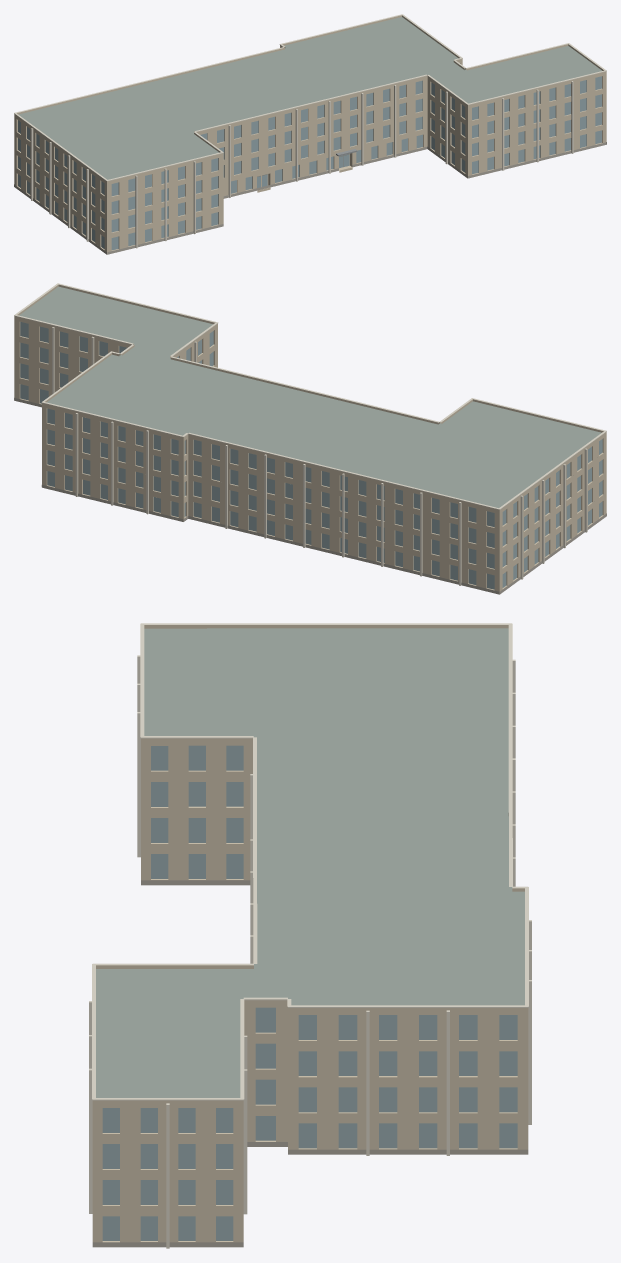
3 views of the same model, one above another, from view 1: azimuth 30°, elevation 25°; view 2: azimuth 150°, elevation 25°; view 3: azimuth 270°, elevation 25° (orthographic). The views are drawn at different scales.
Visible parts, largest first — view 1: b115951759__roof, b115951759__wall, b115951759__glass, b115951759__trim, b115951759__parapet, b115951759__base; view 2: b115951759__roof, b115951759__wall, b115951759__glass, b115951759__trim, b115951759__parapet, b115951759__base; view 3: b115951759__roof, b115951759__wall, b115951759__glass, b115951759__trim, b115951759__parapet, b115951759__base.
Part boxes in pixels (x1,y1,x2,y2): b115951759__roof: (18, 17, 601, 179); b115951759__wall: (14, 46, 606, 254); b115951759__glass: (18, 76, 601, 250); b115951759__trim: (14, 14, 606, 248); b115951759__parapet: (14, 15, 606, 182); b115951759__base: (14, 142, 606, 254); b115951759__roof: (19, 286, 601, 507); b115951759__wall: (14, 317, 606, 593); b115951759__glass: (20, 322, 602, 589); b115951759__trim: (14, 283, 606, 585); b115951759__parapet: (14, 284, 606, 511); b115951759__base: (14, 398, 606, 594); b115951759__roof: (96, 628, 524, 1097); b115951759__wall: (92, 740, 528, 1242); b115951759__glass: (102, 745, 517, 1240); b115951759__trim: (89, 623, 531, 1248); b115951759__parapet: (92, 625, 528, 1102); b115951759__base: (92, 880, 528, 1247).
Bounding box in the file's own units: 103 × 15.15 × 40.07.
